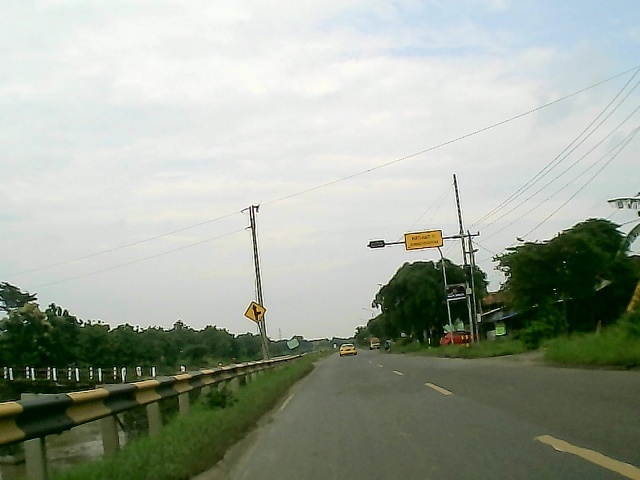Simpang kanan dengan prioritas: (244, 299, 268, 325)
